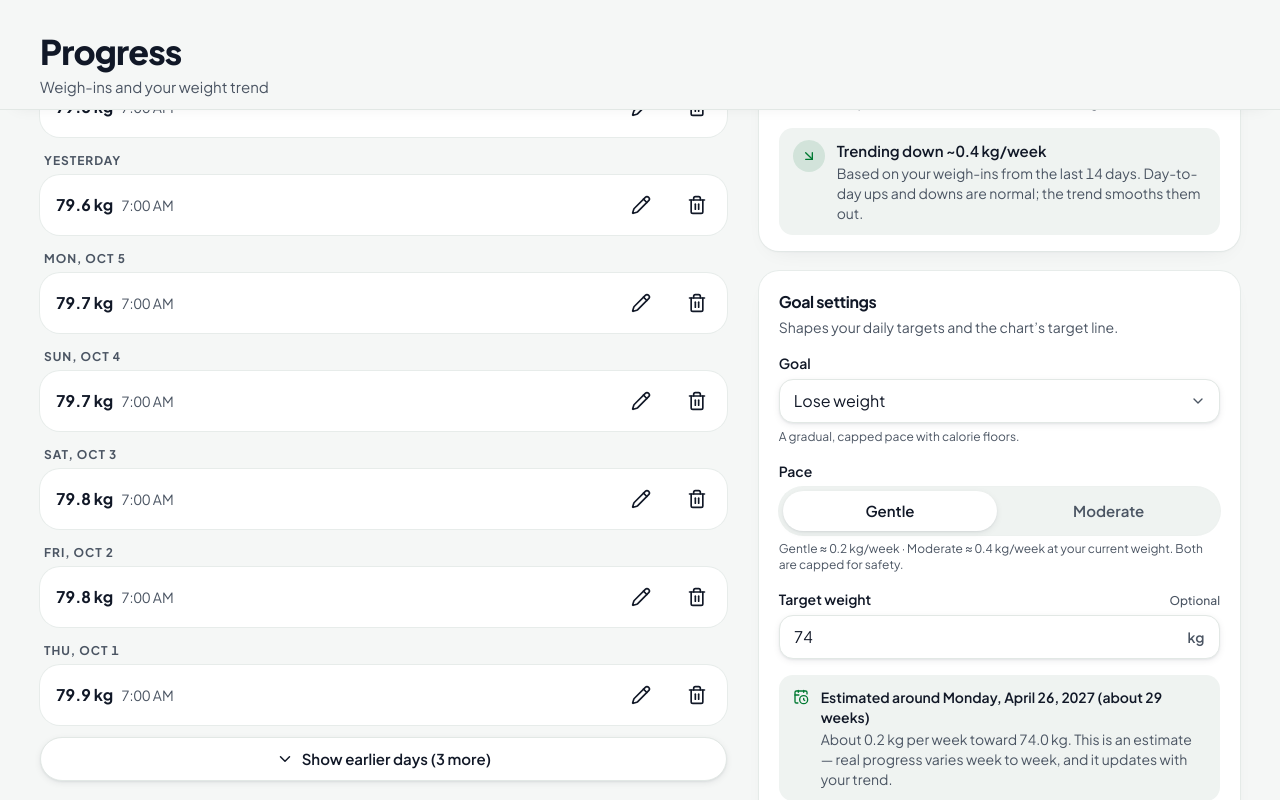
Progress: goal settings › switching to a goal without a target keeps the stored target unused
(page scrolled)
Select "Maintain weight" in the dropdown labelled "Goal" at (999,401), box [779, 379, 1220, 423]
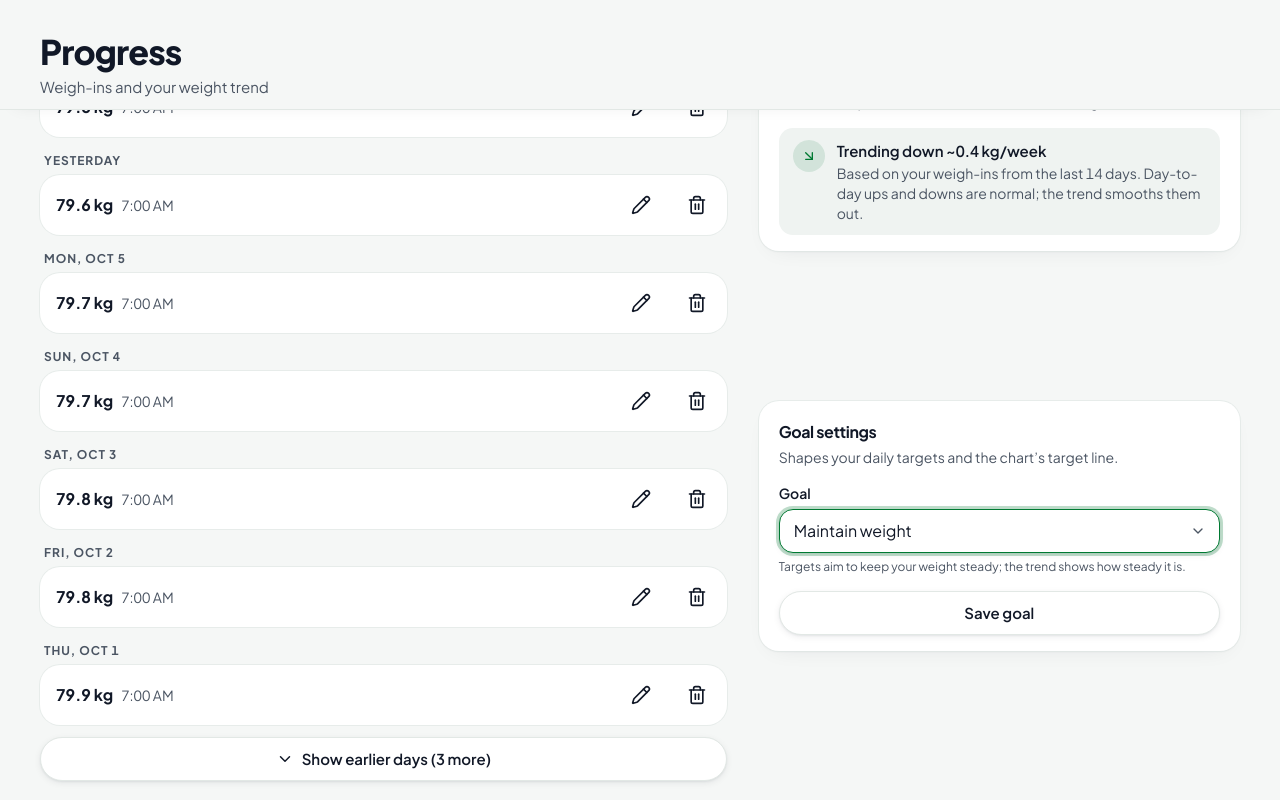
Check: the text "Target weight" is gone
Check: the element "Pace" is gone
Click the button "Save goal" at (999,613), box [779, 591, 1220, 635]
(page scrolled)
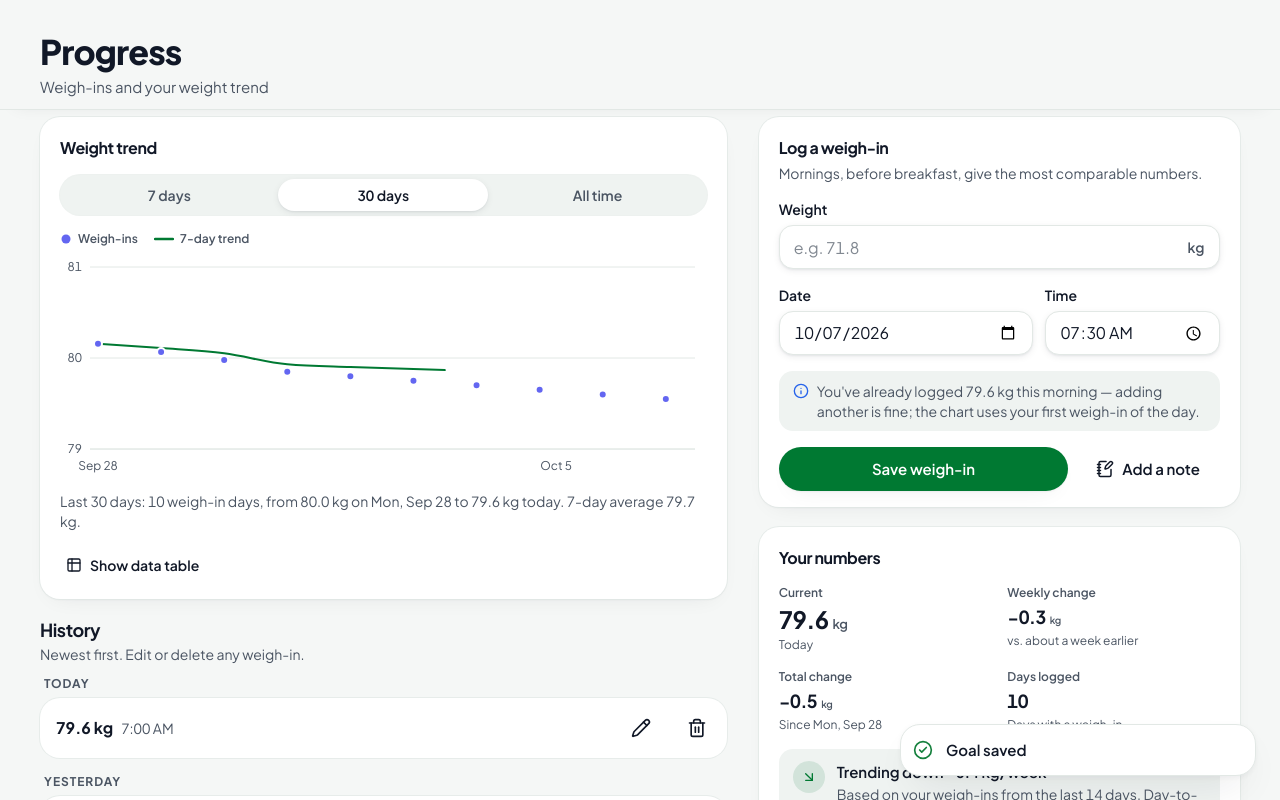
Check: the text "To target" is not shown
Check: the text "Goal saved" is shown, box [946, 738, 1026, 761]
Check: the list named "Chart key" no longer shows "Target pace", box [60, 231, 249, 246]
